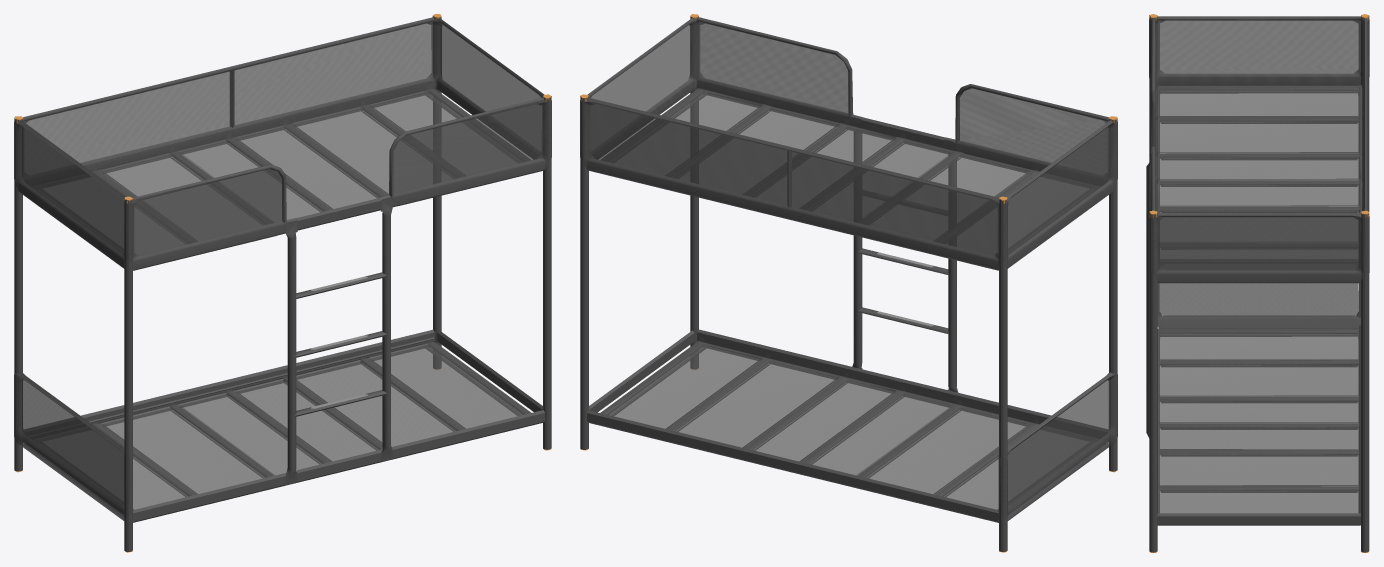
The picture shows the model from 3 angles, left to right: view 1: azimuth 30°, elevation 25°; view 2: azimuth 150°, elevation 25°; view 3: azimuth 270°, elevation 25°; orthographic projection. The views are drawn at different scales.
Parts seen in each view (by area): view 1: Mesh_1, Mesh_0; view 2: Mesh_1, Mesh_0; view 3: Mesh_1, Mesh_0.
Boxes of the visible parts, x1,y1,x2,y2 form: Mesh_1: (14, 17, 551, 521); Mesh_0: (14, 14, 551, 552); Mesh_1: (580, 17, 1117, 521); Mesh_0: (580, 14, 1117, 552); Mesh_1: (1149, 16, 1369, 513); Mesh_0: (1146, 14, 1369, 552).
Bounding box in the file's own units: 2.07 × 1.64 × 0.9746.
2 materials, 2 textured.
